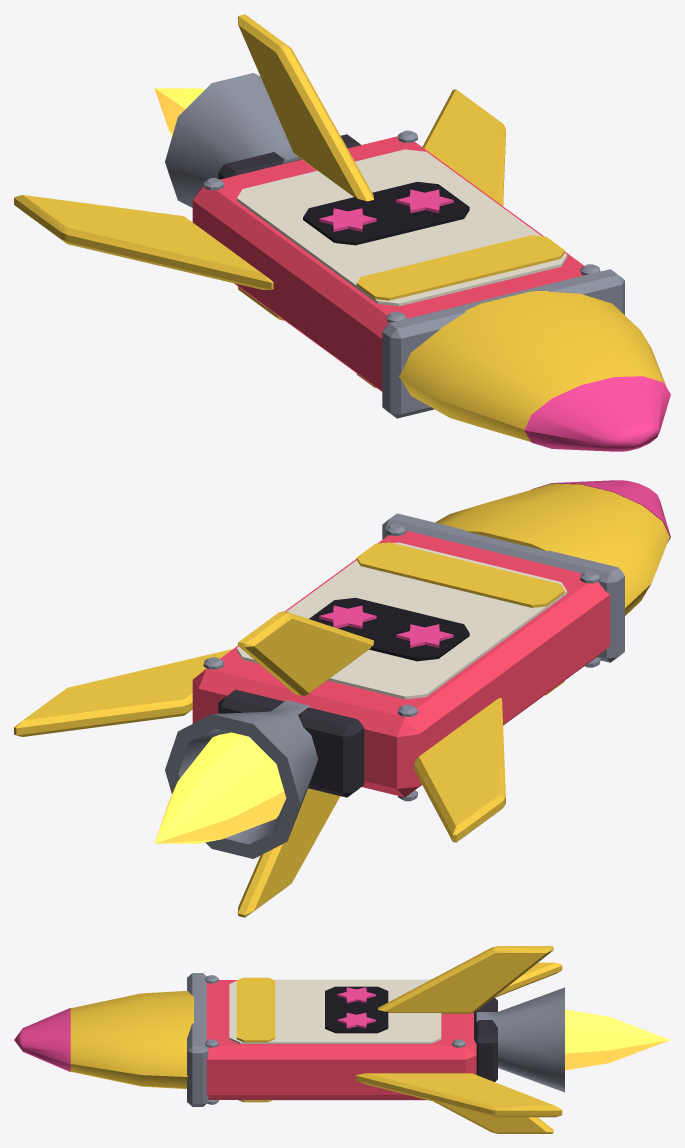
Rendered from missile.glb.
The picture shows the model from 3 angles, top to bottom: view 1: azimuth 30°, elevation 25°; view 2: azimuth 150°, elevation 25°; view 3: azimuth 270°, elevation 25°; orthographic projection. The views are drawn at different scales.
Visible parts, largest first — view 1: Projectile; view 2: Projectile; view 3: Projectile.
Part boxes in pixels (left/top/right/bottom): Projectile: left=14, top=14, right=670, bottom=451; Projectile: left=14, top=480, right=670, bottom=917; Projectile: left=14, top=946, right=670, bottom=1133.
Size of the model in its own units: 0.196 by 0.116 by 0.372.
